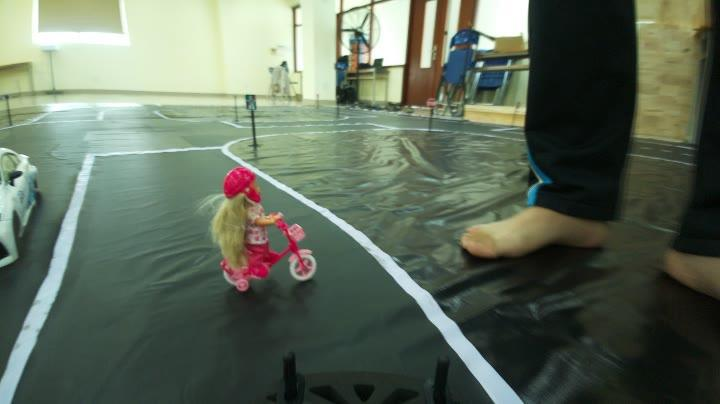pedestrian: (193, 160, 320, 291)
